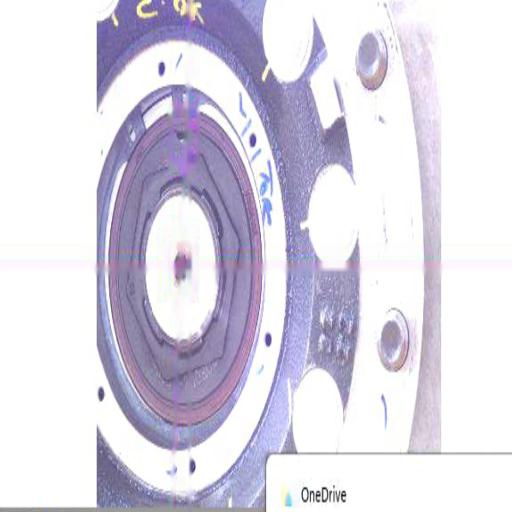center: (170, 256, 190, 288)
notch: (172, 123, 192, 152)
